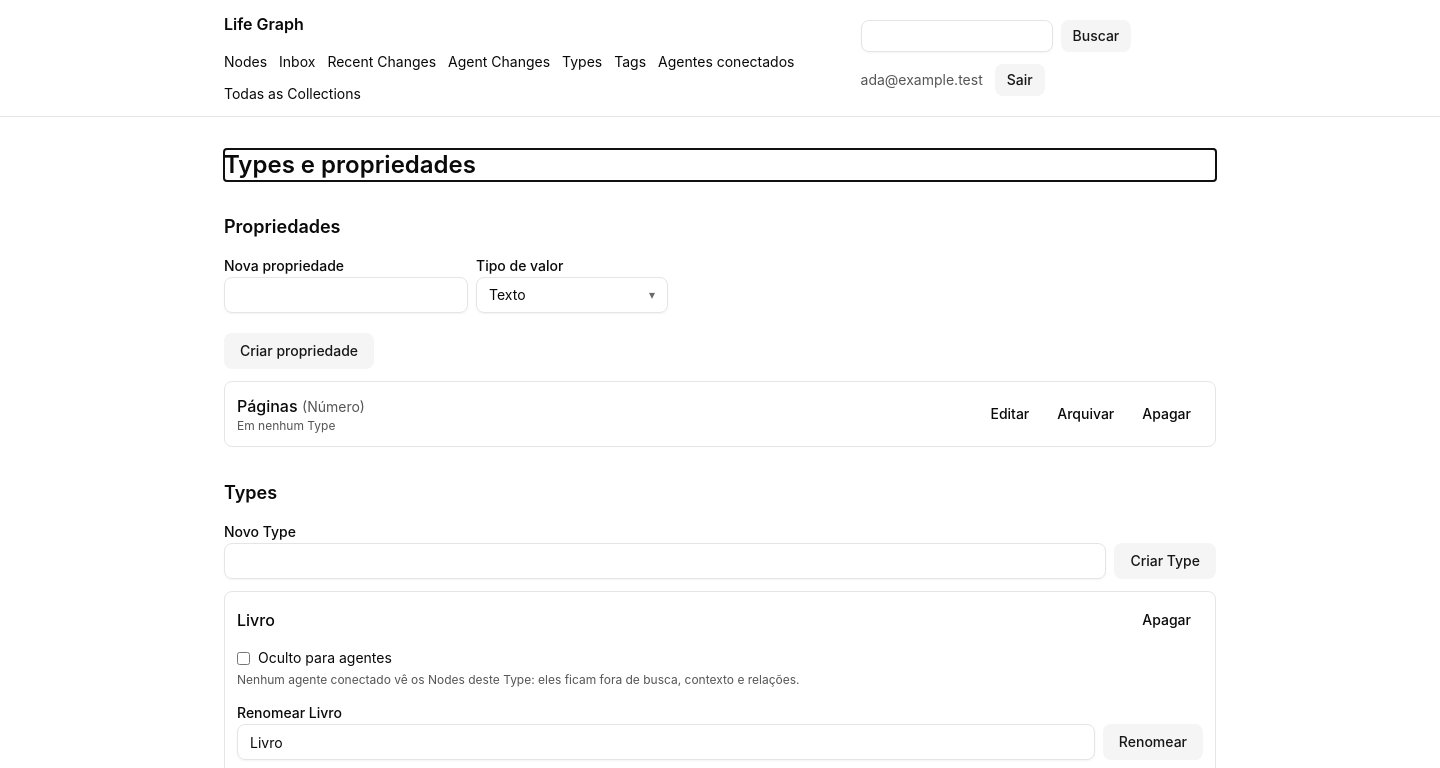
Scenario: types and properties › shows a value-kind change the server blocks on the kind field
The width and height of the screenshot is (1440, 768).
Click the button with aria-label "Editar Páginas". click: point(1010, 414)
box: 978,398 -> 1041,430
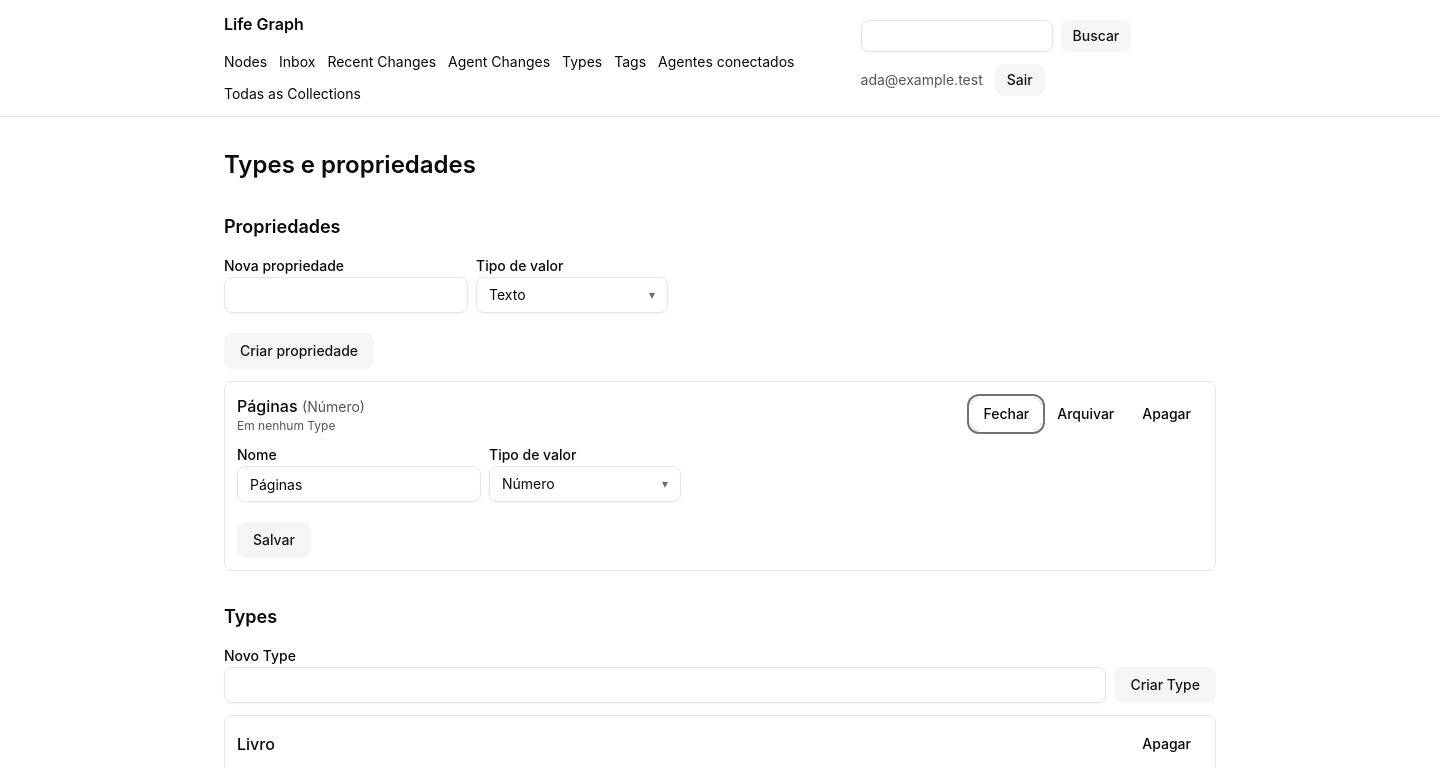
Click the dropdown named "Tipo de valor". click: point(585, 484)
box: 489,466 -> 681,502
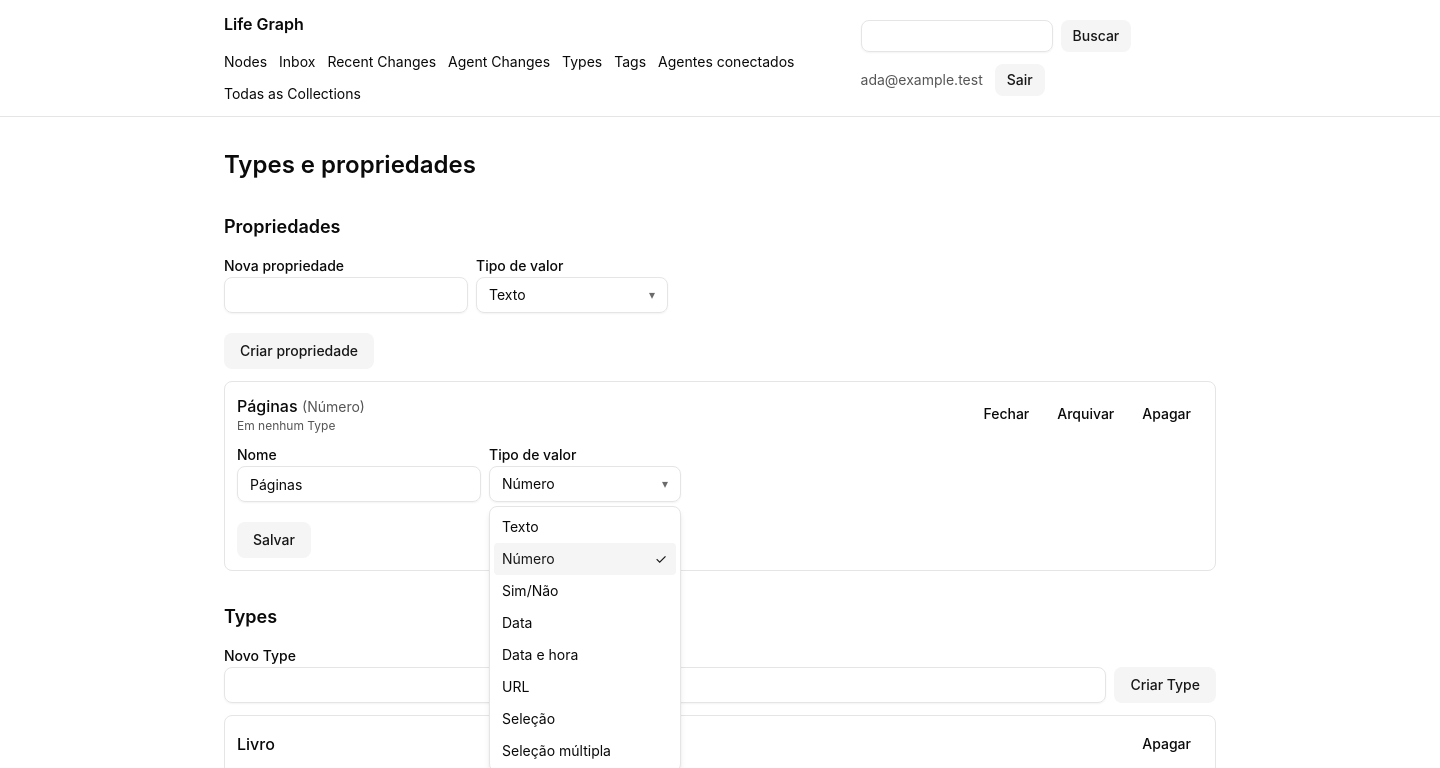
Click the option "Sim/Não". click: point(530, 590)
box: 502,582 -> 558,599
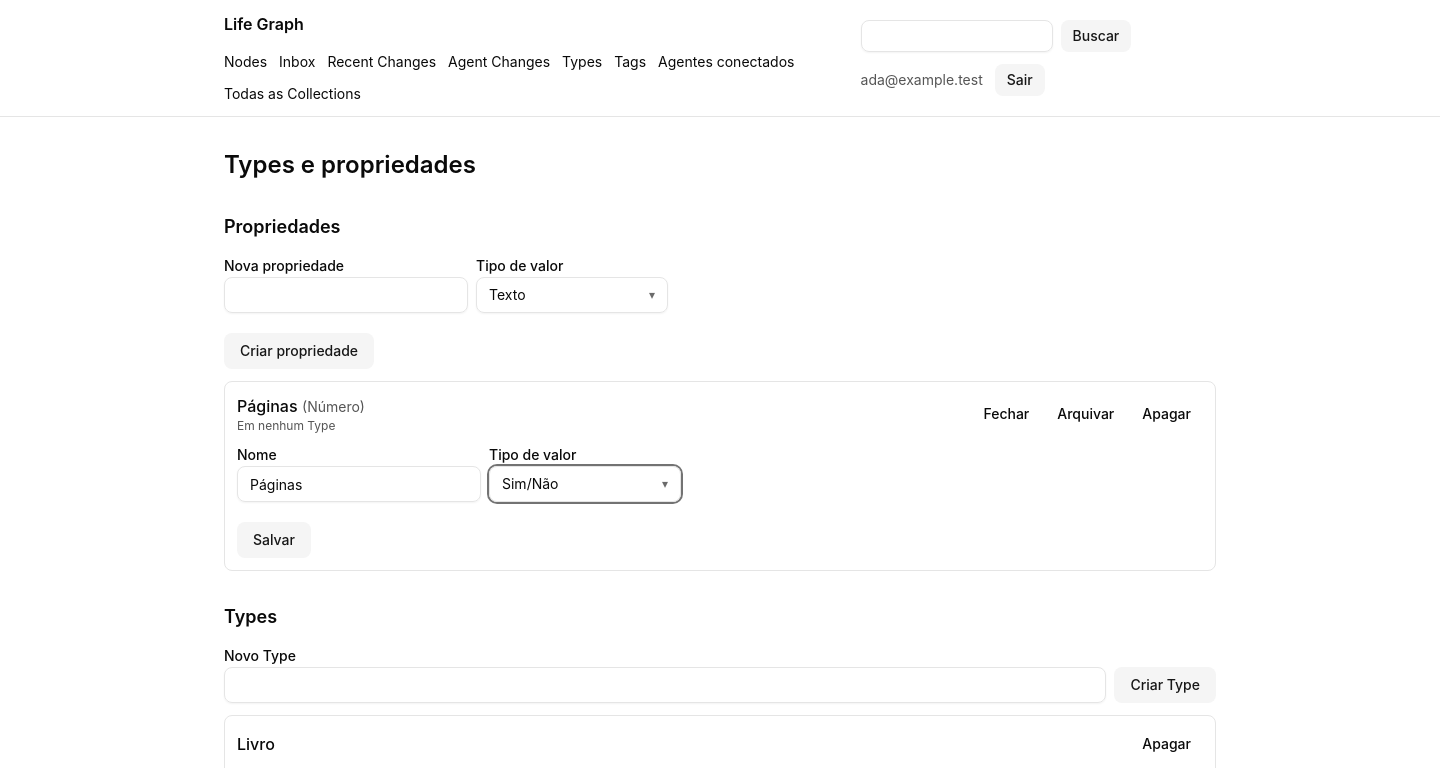
Click the button "Salvar". click: point(274, 540)
box: 237,522 -> 311,558
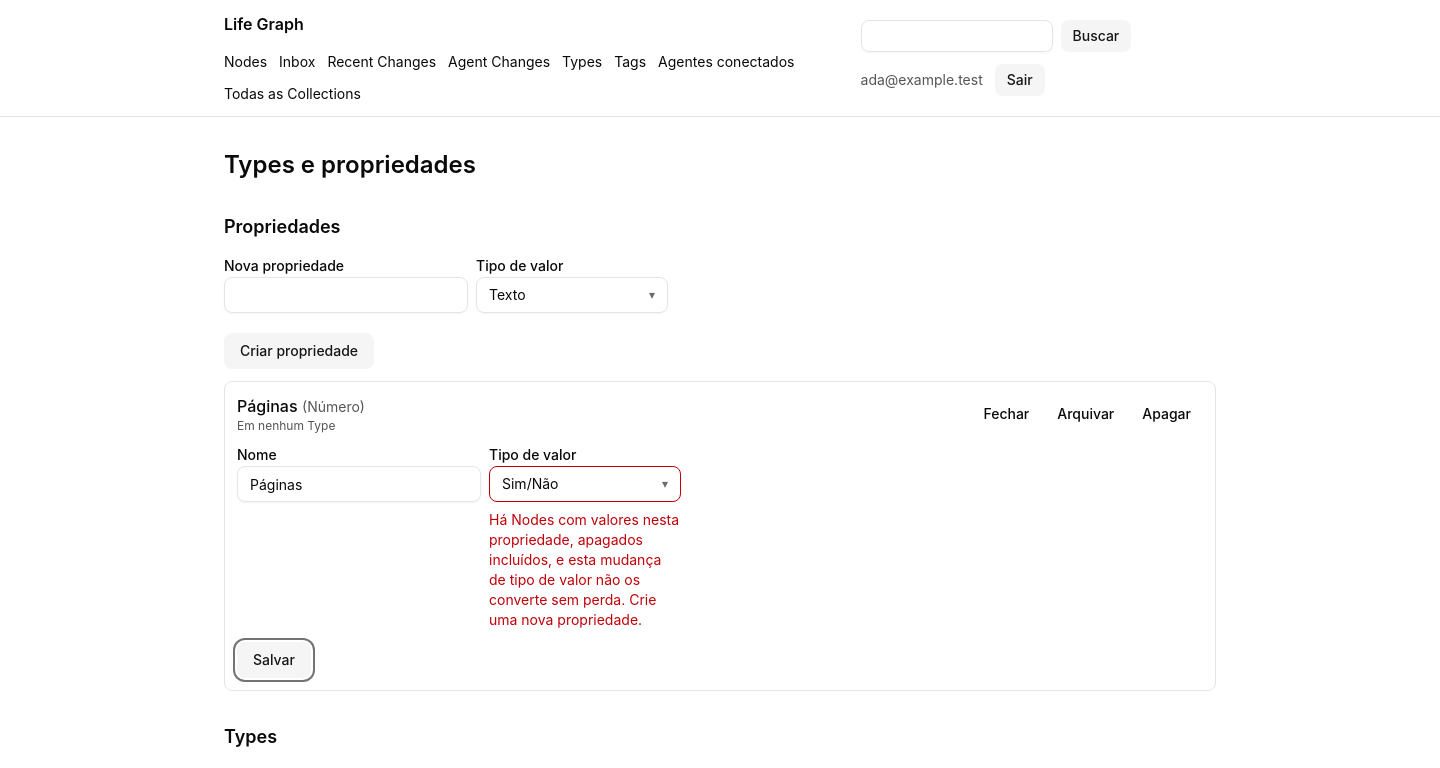
Check: the message shows "Crie uma nova propriedade", box 489,511 -> 679,628
